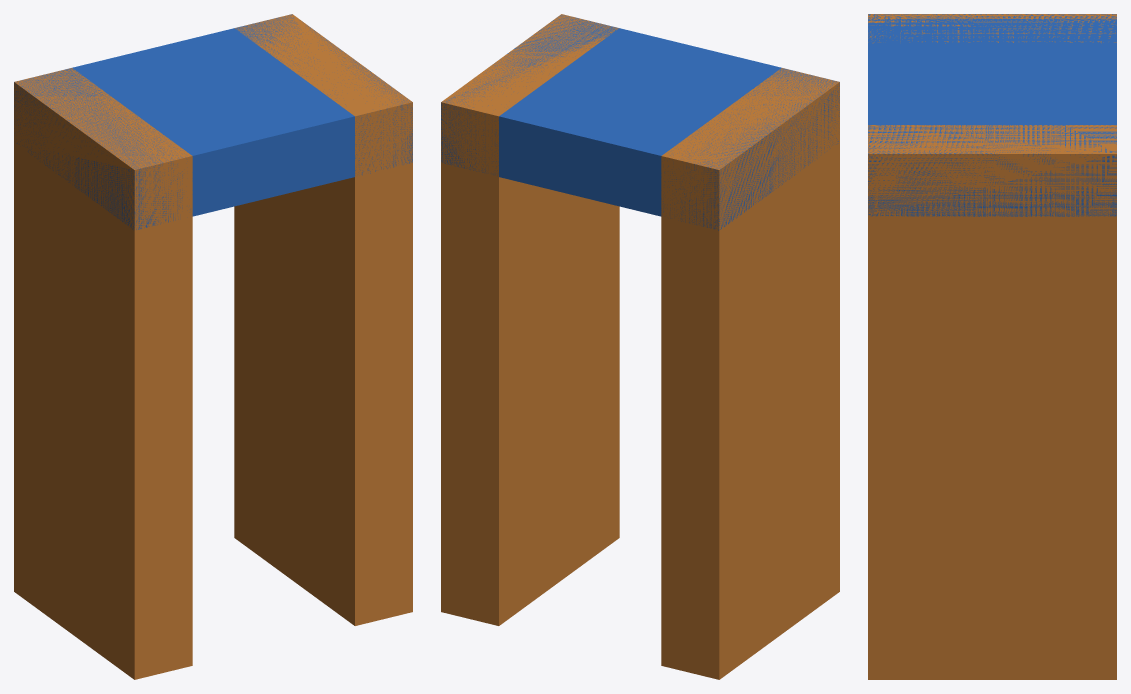
Rendered from arch.glb.
3 renders of one model, left to right at view 1: azimuth 30°, elevation 25°; view 2: azimuth 150°, elevation 25°; view 3: azimuth 270°, elevation 25°, orthographic. The views are drawn at different scales.
Bounding box in the file's own units: 1.2 × 2.1 × 0.9.
